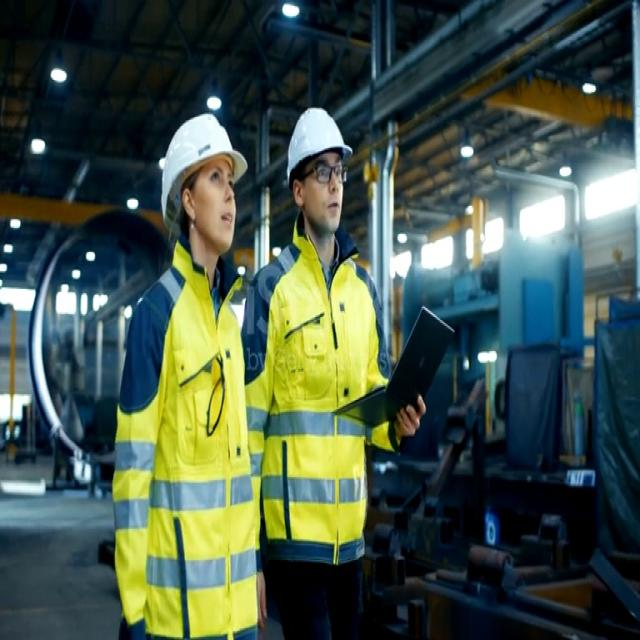capacete: (146, 101, 258, 245), (275, 91, 359, 187)
